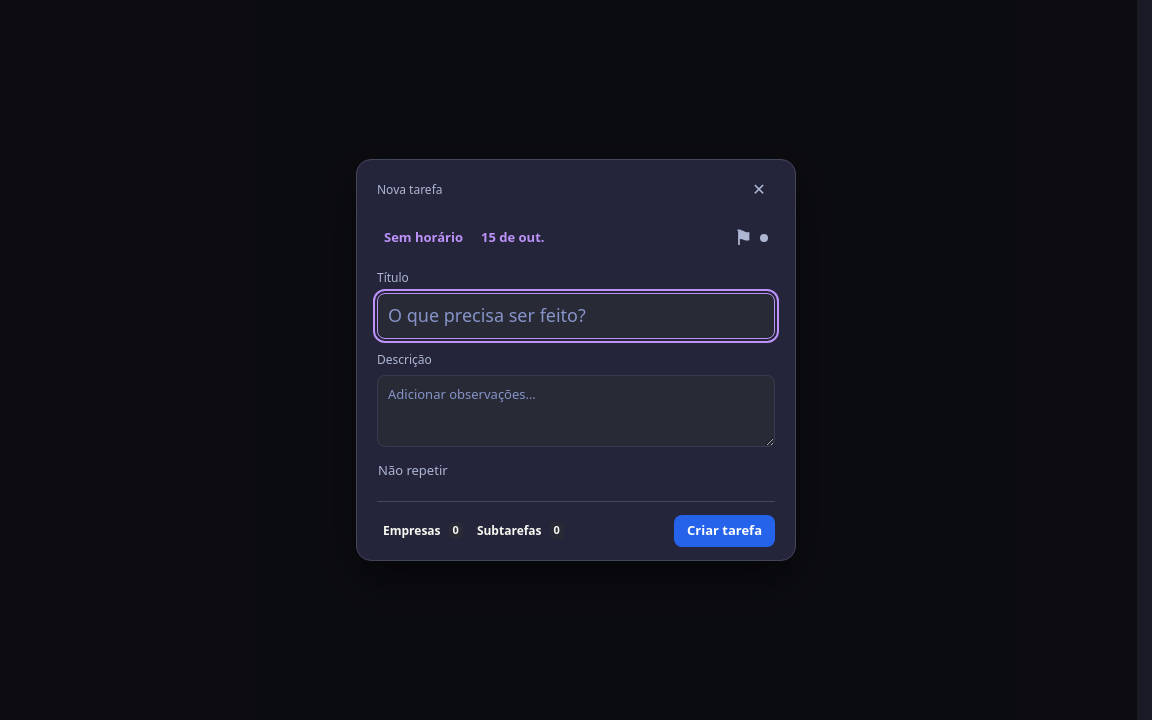
Scenario: Escape fecha a configuração antes do editor e filtro aceita regime da carteira
The image size is (1152, 720).
Click the button "Empresas 0" at (423, 531), box top-left (377, 515), bottom-right (469, 547)
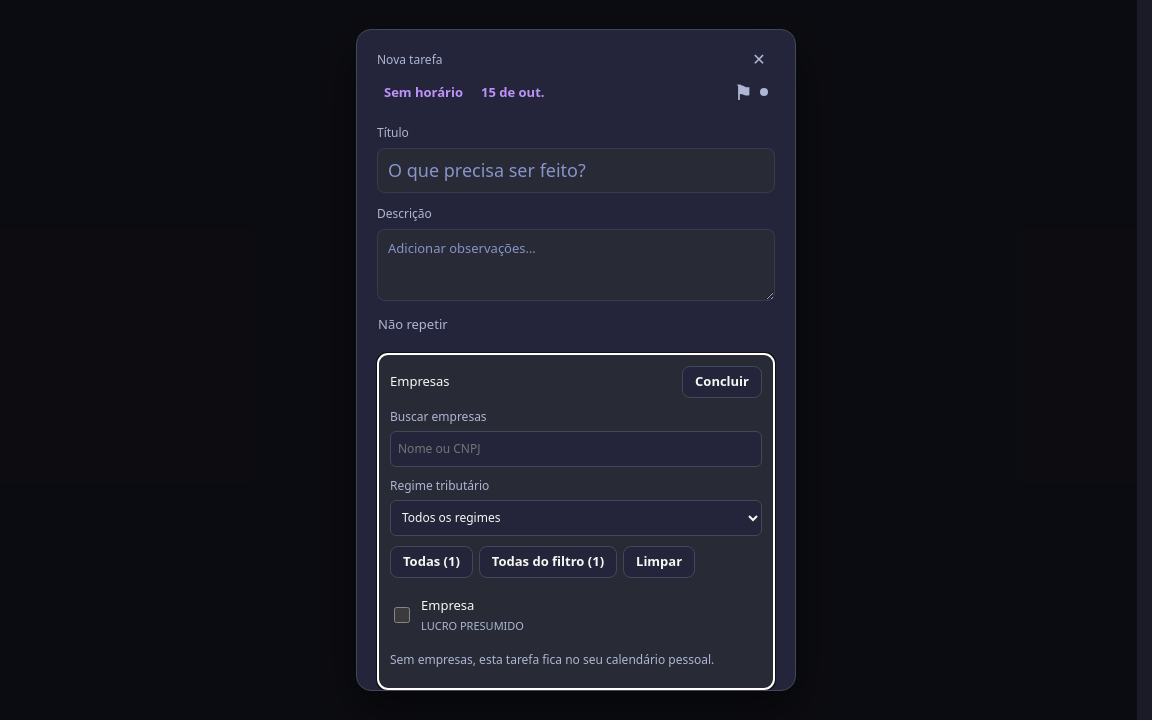
Press Escape in the search field labelled "Buscar empresas", box top-left (390, 431), bottom-right (762, 467)
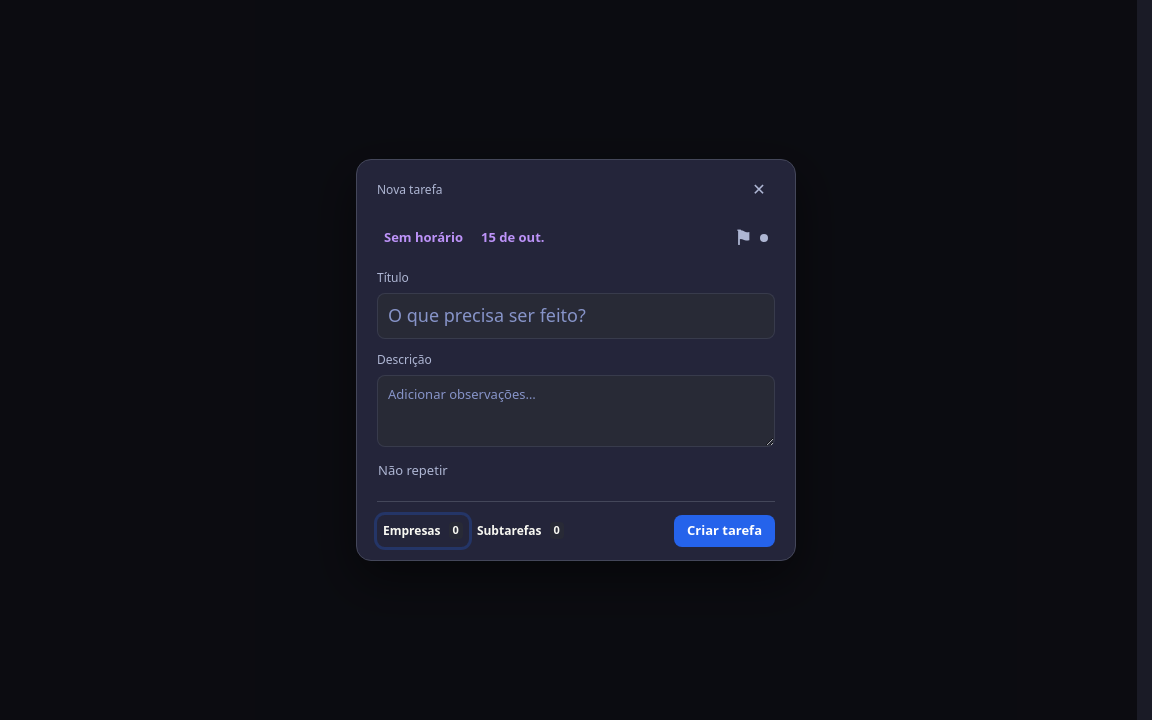
expect the field labelled "Título" is shown: met, box top-left (377, 293), bottom-right (775, 339)
expect the label labelled "Buscar empresas" is gone: met
